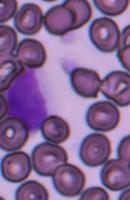M: (2, 66, 58, 132)
